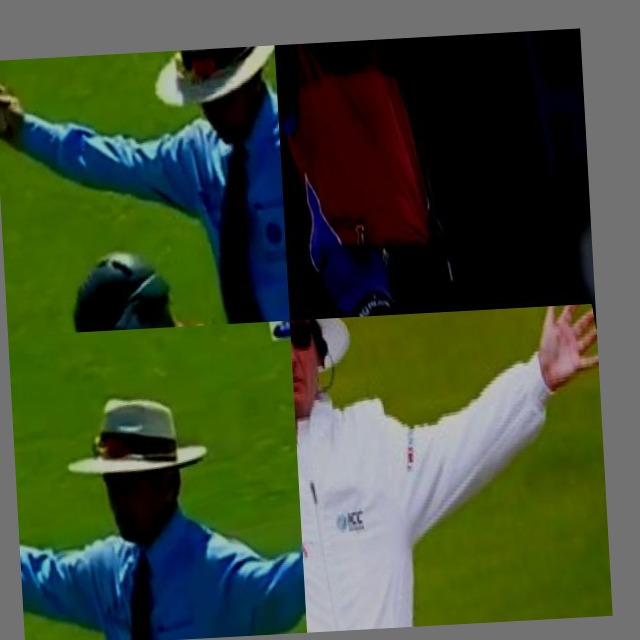Six: (275, 34, 500, 321)
Wide: (290, 304, 613, 633), (10, 350, 307, 640), (0, 45, 289, 323)
